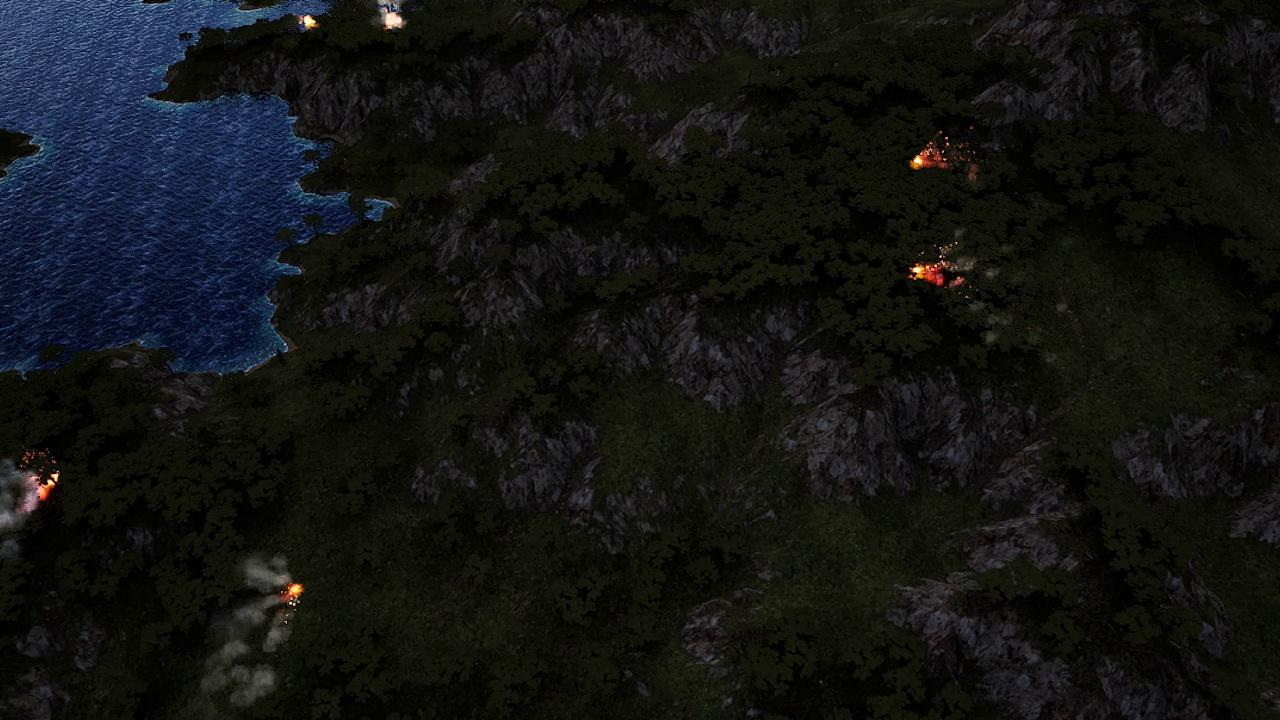fire: (0, 458, 39, 541), (907, 256, 958, 291), (27, 464, 63, 502), (910, 145, 948, 174), (297, 12, 319, 34), (283, 582, 305, 603), (381, 9, 403, 29)
smoke: (187, 549, 295, 719)
